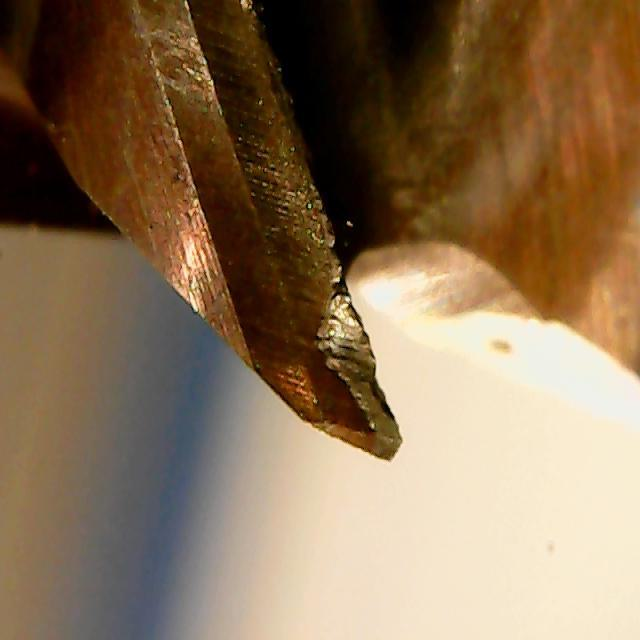Tool-wear-class-2: (236, 238, 429, 467)
